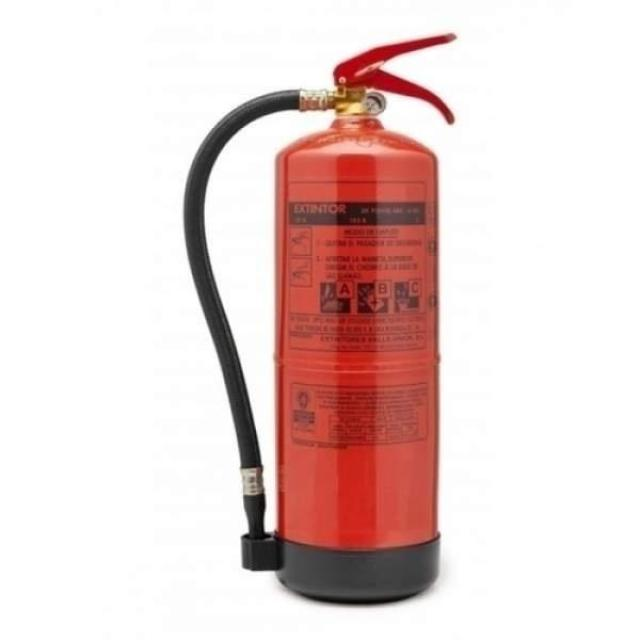fire_extinguisher: (176, 28, 464, 609)
